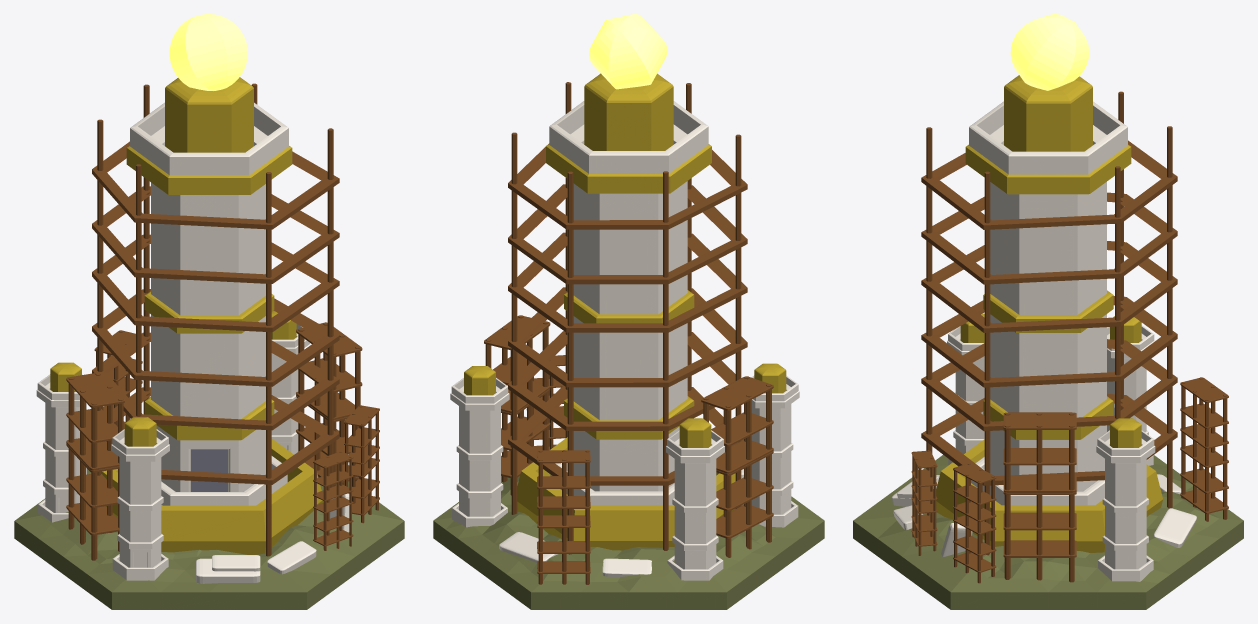
Rendered from hyperstructure_half.glb.
3 views of the same model, side by side, from view 1: azimuth 30°, elevation 25°; view 2: azimuth 150°, elevation 25°; view 3: azimuth 270°, elevation 25° (orthographic).
Parts seen in each view (by area): view 1: land, building; view 2: land, building; view 3: land, building.
Boxes of the visible parts, x1,y1,x2,y2 form: land: (14, 83, 404, 609); building: (50, 14, 323, 554); land: (433, 82, 824, 609); building: (464, 14, 786, 550); land: (853, 91, 1243, 609); building: (936, 14, 1162, 552).
Bounding box in the file's own units: 1.73 × 2.94 × 2.
Materials: 3 (3 with a texture image).
